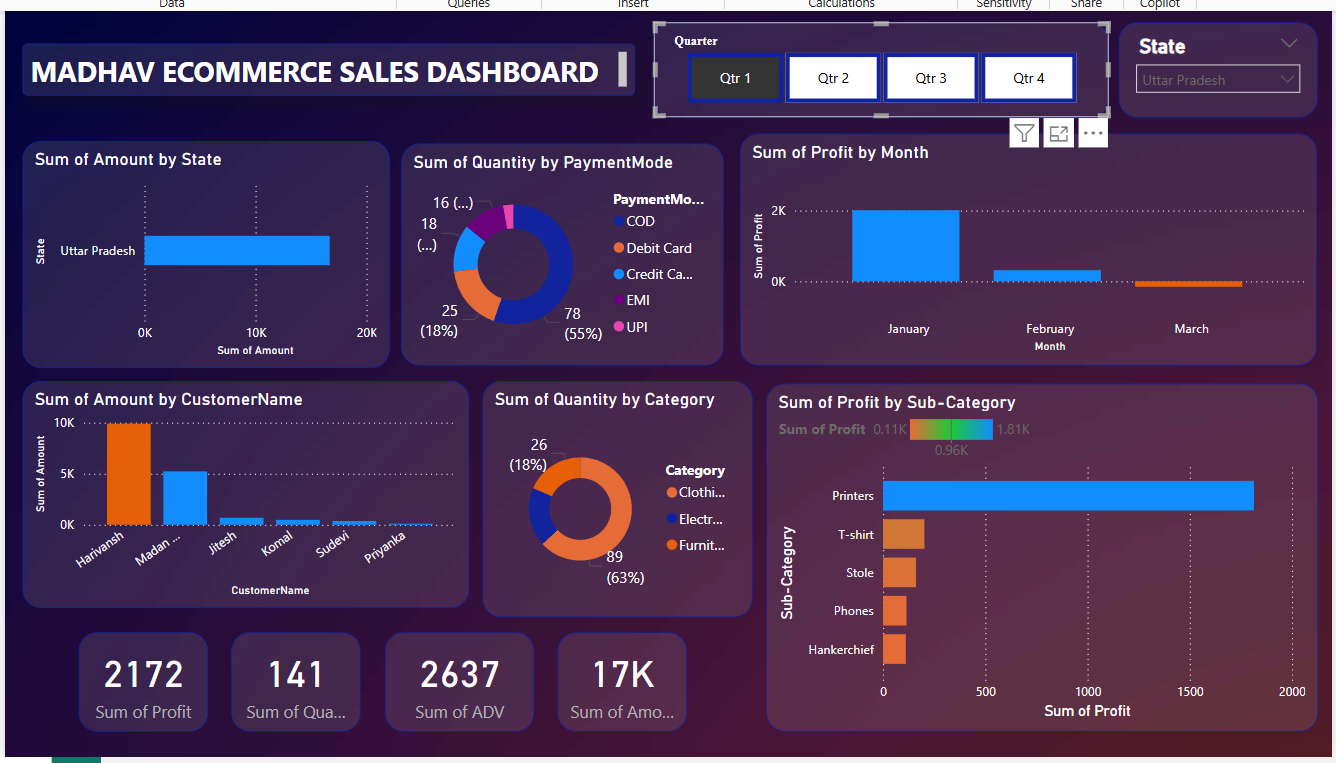

What the dashboard file says about the page in this screenshot:
{"tool":"powerbi","page":{"name":"Page 1","canvas":[1280,720],"ordinal":0},"visuals":[{"type":"textbox","box":[16.5,31.6,591.4,50.8],"z":0},{"type":"columnChart","fields":{"Y":["Sum(Details.Profit)"],"Category":["Orders.Order Date.Variation.Date Hierarchy.Month"]},"box":[709.4,118.4,557.1,223.7],"z":1000},{"type":"barChart","fields":{"Category":["Details.Sub-Category"],"Y":["Sum(Details.Profit)"]},"box":[734.1,359.5,532.4,336.2],"z":2000},{"type":"donutChart","fields":{"Category":["Details.Category"],"Y":["Sum(Details.Quantity)"]},"box":[461.1,356.8,260.7,227.8],"z":3000},{"type":"donutChart","fields":{"Category":["Details.PaymentMode"],"Y":["Sum(Details.Quantity)"]},"box":[382.8,128,311.5,214.1],"z":4000},{"type":"card","fields":{"Values":["Sum(Details.Amount)"]},"box":[532.8,599.7,124.9,96.1],"z":5000},{"type":"card","fields":{"Values":["Sum(Details.ADV)"]},"box":[366.8,599.7,144.1,96.1],"z":6000},{"type":"card","fields":{"Values":["Sum(Details.Quantity)"]},"box":[218.6,599.7,124.9,96.1],"z":7000},{"type":"card","fields":{"Values":["Sum(Details.Profit)"]},"box":[71.7,599.7,124.9,96.1],"z":8000},{"type":"barChart","fields":{"Category":["Orders.State"],"Y":["Sum(Details.Amount)"]},"box":[16.5,125.2,354,219.6],"z":9000},{"type":"columnChart","fields":{"Category":["Orders.CustomerName"],"Y":["Sum(Details.Amount)"]},"box":[16.5,356.8,430.9,219.6],"z":10000},{"type":"slicer","fields":{"Values":["Orders.Order Date.Variation.Date Hierarchy.Quarter"]},"box":[625.7,11,439.1,91.9],"z":11000},{"type":"slicer","fields":{"Values":["Orders.State"]},"box":[1074.4,11,192.1,91.9],"z":11001}]}

Visuals, with their boxes in screenshot pixels (x1, y1, x2, y2):
textbox: Rect(0, 48, 631, 102)
columnChart - Sum(Details.Profit) x Orders.Order Date.Variation.Date Hierarchy.Month: Rect(740, 140, 1334, 379)
barChart - Details.Sub-Category x Sum(Details.Profit): Rect(766, 398, 1334, 756)
donutChart - Details.Category x Sum(Details.Quantity): Rect(475, 395, 753, 638)
donutChart - Details.PaymentMode x Sum(Details.Quantity): Rect(391, 151, 724, 379)
card - Sum(Details.Amount): Rect(551, 654, 684, 756)
card - Sum(Details.ADV): Rect(374, 654, 528, 756)
card - Sum(Details.Quantity): Rect(216, 654, 349, 756)
card - Sum(Details.Profit): Rect(59, 654, 192, 756)
barChart - Orders.State x Sum(Details.Amount): Rect(0, 148, 378, 382)
columnChart - Orders.CustomerName x Sum(Details.Amount): Rect(0, 395, 460, 629)
slicer - Orders.Order Date.Variation.Date Hierarchy.Quarter: Rect(650, 26, 1119, 124)
slicer - Orders.State: Rect(1129, 26, 1334, 124)
